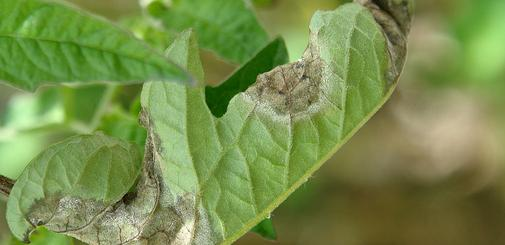Tomato leaf late blight: (3, 0, 444, 245), (0, 0, 237, 153)
